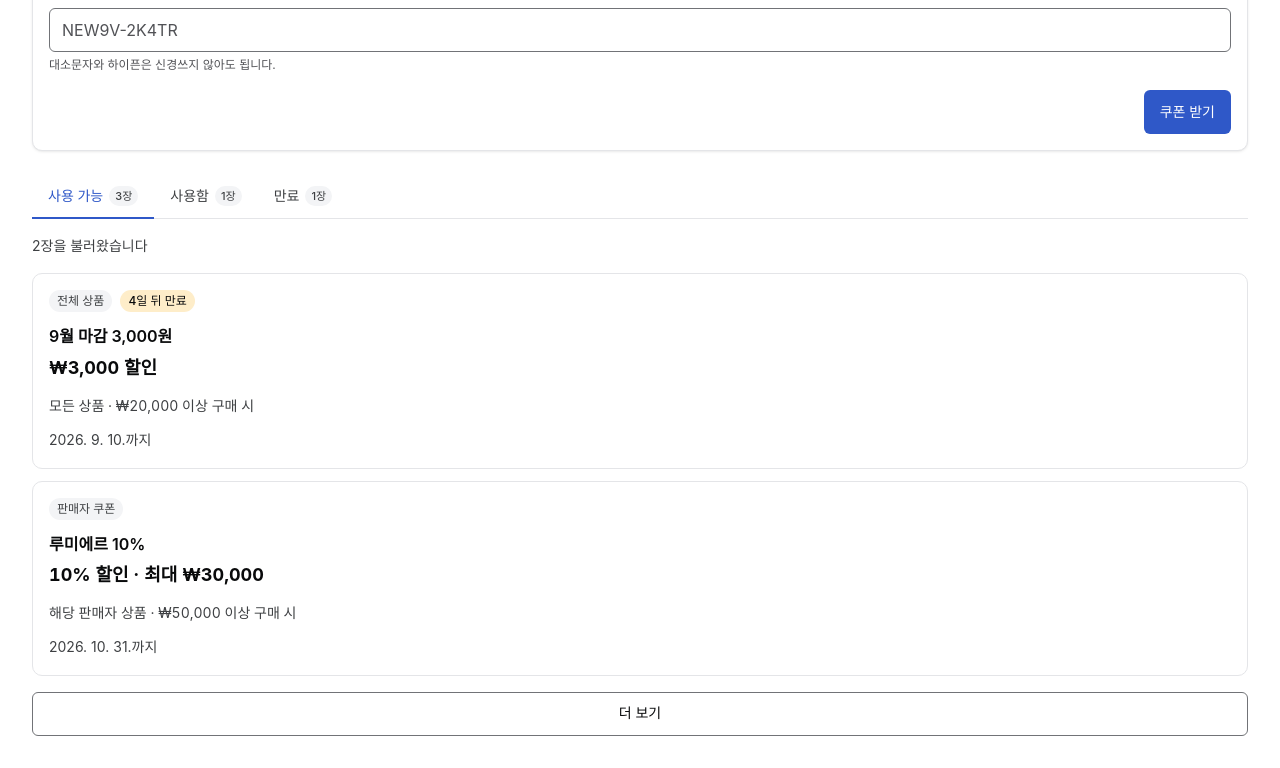
한 장이 말하는 것 › writes a fixed discount in money, not as a bare number
(page scrolled)
Expected: the list named "내 쿠폰" is shown, [32, 273, 1248, 676]
// 정액 쿠폰은 둘째 쪽에 있다 — 한 쪽이 두 장이므로.
Click the button "더 보기" at (640, 714), box [32, 692, 1248, 736]
(page scrolled)
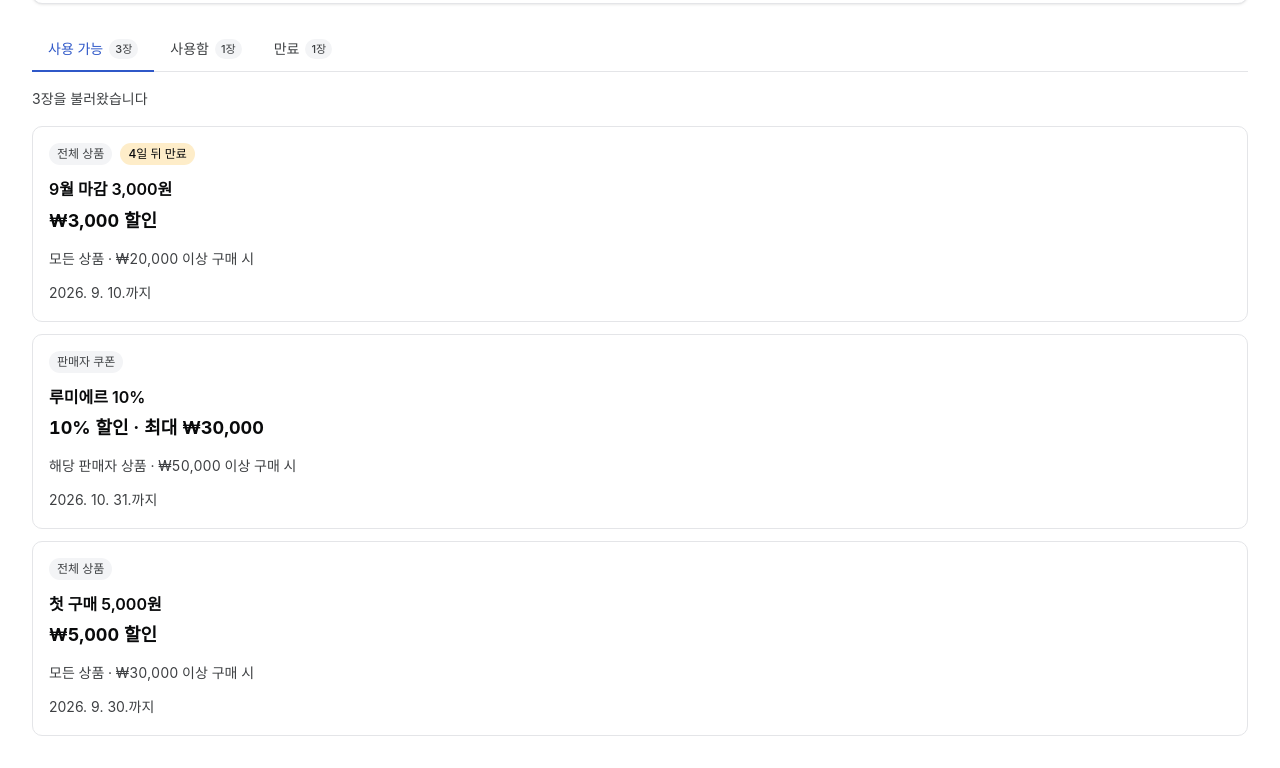
Expected: the heading "첫 구매 5,000원" is shown, [49, 594, 162, 614]
